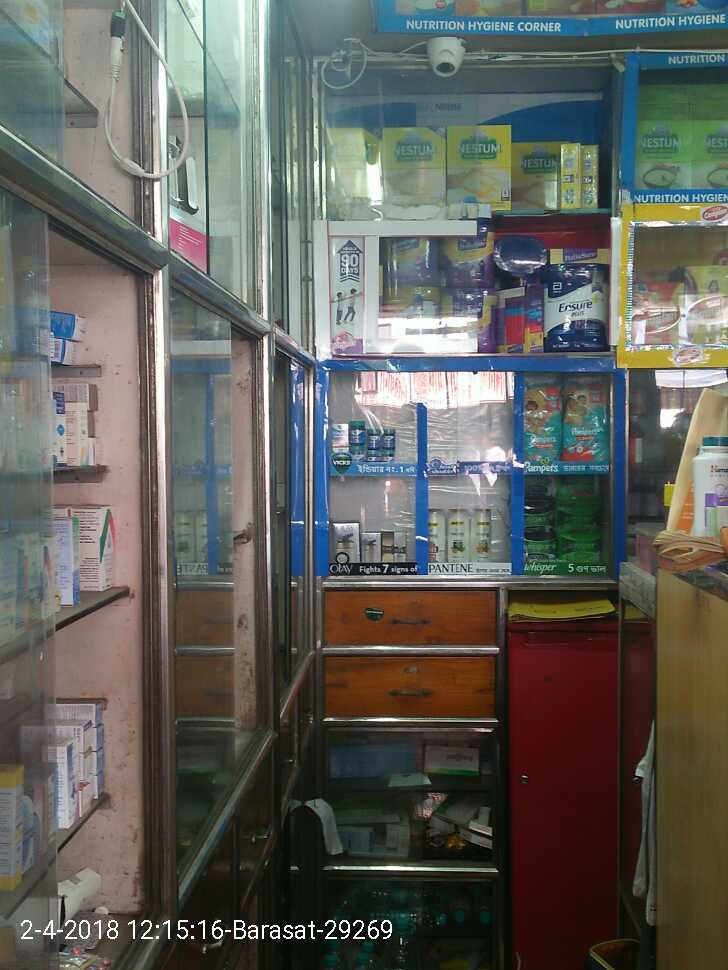vicks: (326, 416, 393, 456)
